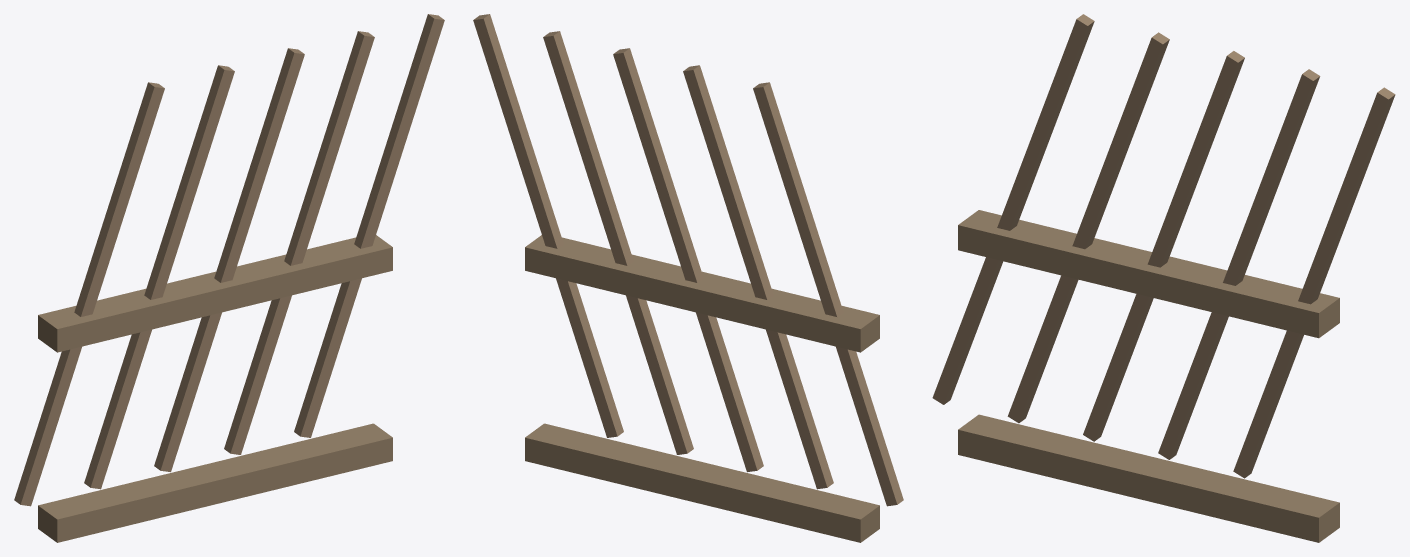
Rendered from spear_rack.glb.
3 renders of one model, left to right at view 1: azimuth 30°, elevation 25°; view 2: azimuth 150°, elevation 25°; view 3: azimuth 330°, elevation 25°, orthographic. The views are drawn at different scales.
Parts seen in each view (by area): view 1: world; view 2: world; view 3: world.
Boxes of the visible parts, x1,y1,x2,y2 form: world: (14, 14, 444, 542); world: (473, 14, 903, 542); world: (932, 14, 1395, 542).
Bounding box in the file's own units: 1.52 × 1.45 × 0.12.
